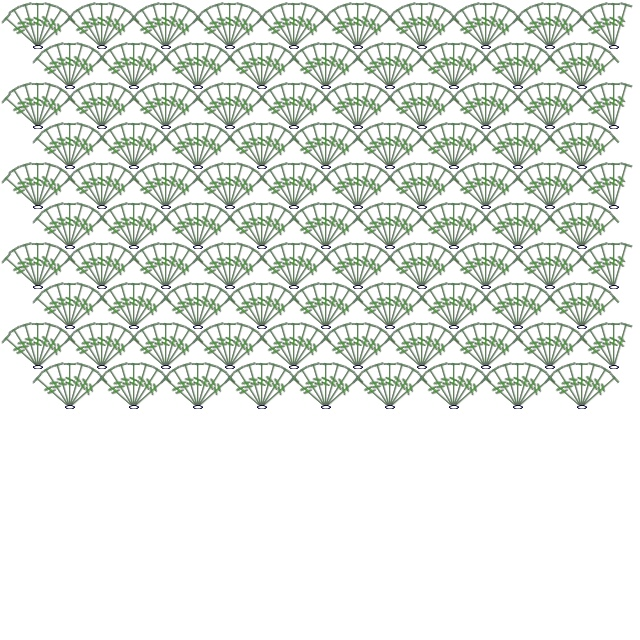chain: (32, 43, 44, 51), (96, 43, 108, 51), (160, 43, 172, 51), (224, 43, 236, 51), (288, 43, 300, 51), (352, 43, 364, 51), (416, 43, 428, 51), (480, 43, 492, 51), (544, 43, 556, 51), (608, 43, 620, 51), (64, 83, 76, 91), (128, 83, 140, 91), (192, 83, 204, 91), (256, 83, 268, 91), (320, 83, 332, 91), (384, 83, 396, 91), (448, 83, 460, 91), (512, 83, 524, 91), (576, 83, 588, 91), (32, 123, 44, 131), (96, 123, 108, 131), (160, 123, 172, 131), (224, 123, 236, 131), (288, 123, 300, 131), (352, 123, 364, 131), (416, 123, 428, 131), (480, 123, 492, 131), (544, 123, 556, 131), (608, 123, 620, 131), (64, 163, 76, 171), (128, 163, 140, 171), (192, 163, 204, 171), (256, 163, 268, 171), (320, 163, 332, 171), (384, 163, 396, 171), (448, 163, 460, 171), (512, 163, 524, 171), (576, 163, 588, 171), (32, 203, 44, 211), (96, 203, 108, 211), (160, 203, 172, 211), (224, 203, 236, 211), (288, 203, 300, 211), (352, 203, 364, 211), (416, 203, 428, 211), (480, 203, 492, 211), (544, 203, 556, 211), (608, 203, 620, 211), (64, 243, 76, 251), (128, 243, 140, 251), (192, 243, 204, 251), (256, 243, 268, 251), (320, 243, 332, 251), (384, 243, 396, 251), (448, 243, 460, 251), (512, 243, 524, 251), (576, 243, 588, 251), (32, 283, 44, 291), (96, 283, 108, 291), (160, 283, 172, 291), (224, 283, 236, 291), (288, 283, 300, 291), (352, 283, 364, 291), (416, 283, 428, 291), (480, 283, 492, 291), (544, 283, 556, 291), (608, 283, 620, 291), (64, 323, 76, 331), (128, 323, 140, 331), (192, 323, 204, 331), (256, 323, 268, 331), (320, 323, 332, 331), (384, 323, 396, 331), (448, 323, 460, 331), (512, 323, 524, 331), (576, 323, 588, 331), (32, 363, 44, 371), (96, 363, 108, 371), (160, 363, 172, 371), (224, 363, 236, 371), (288, 363, 300, 371), (352, 363, 364, 371), (416, 363, 428, 371), (480, 363, 492, 371), (544, 363, 556, 371), (608, 363, 620, 371), (64, 403, 76, 411), (128, 403, 140, 411), (192, 403, 204, 411), (256, 403, 268, 411), (320, 403, 332, 411), (384, 403, 396, 411), (448, 403, 460, 411), (512, 403, 524, 411), (576, 403, 588, 411)
fan: (33, 12, 77, 53), (63, 12, 107, 53), (97, 12, 141, 53), (127, 12, 171, 53), (161, 12, 205, 53), (191, 12, 235, 53), (225, 12, 269, 53), (255, 12, 299, 53), (289, 12, 333, 53), (319, 12, 363, 53), (353, 12, 397, 53), (383, 12, 427, 53), (417, 12, 461, 53), (447, 12, 491, 53), (481, 12, 525, 53), (511, 12, 555, 53), (545, 12, 589, 53), (575, 12, 619, 53), (31, 52, 75, 93), (65, 52, 109, 93), (95, 52, 139, 93), (129, 52, 173, 93), (159, 52, 203, 93), (193, 52, 237, 93), (223, 52, 267, 93), (257, 52, 301, 93), (287, 52, 331, 93), (321, 52, 365, 93), (351, 52, 395, 93), (385, 52, 429, 93), (415, 52, 459, 93), (449, 52, 493, 93), (479, 52, 523, 93), (513, 52, 557, 93), (543, 52, 587, 93), (577, 52, 621, 93), (33, 92, 77, 133), (63, 92, 107, 133), (97, 92, 141, 133), (127, 92, 171, 133), (161, 92, 205, 133), (191, 92, 235, 133), (225, 92, 269, 133), (255, 92, 299, 133), (289, 92, 333, 133), (319, 92, 363, 133), (353, 92, 397, 133), (383, 92, 427, 133), (417, 92, 461, 133), (447, 92, 491, 133), (481, 92, 525, 133), (511, 92, 555, 133), (545, 92, 589, 133), (575, 92, 619, 133), (31, 132, 75, 173), (65, 132, 109, 173), (95, 132, 139, 173), (129, 132, 173, 173), (159, 132, 203, 173), (193, 132, 237, 173), (223, 132, 267, 173), (257, 132, 301, 173), (287, 132, 331, 173), (321, 132, 365, 173), (351, 132, 395, 173), (385, 132, 429, 173), (415, 132, 459, 173), (449, 132, 493, 173), (479, 132, 523, 173), (513, 132, 557, 173), (543, 132, 587, 173), (577, 132, 621, 173), (33, 172, 77, 213), (63, 172, 107, 213), (97, 172, 141, 213), (127, 172, 171, 213), (161, 172, 205, 213), (191, 172, 235, 213), (225, 172, 269, 213), (255, 172, 299, 213), (289, 172, 333, 213), (319, 172, 363, 213), (353, 172, 397, 213), (383, 172, 427, 213), (417, 172, 461, 213), (447, 172, 491, 213), (481, 172, 525, 213), (511, 172, 555, 213), (545, 172, 589, 213), (575, 172, 619, 213), (31, 212, 75, 253), (65, 212, 109, 253), (95, 212, 139, 253), (129, 212, 173, 253), (159, 212, 203, 253), (193, 212, 237, 253), (223, 212, 267, 253), (257, 212, 301, 253), (287, 212, 331, 253), (321, 212, 365, 253), (351, 212, 395, 253), (385, 212, 429, 253), (415, 212, 459, 253), (449, 212, 493, 253), (479, 212, 523, 253), (513, 212, 557, 253), (543, 212, 587, 253), (577, 212, 621, 253), (33, 252, 77, 293), (63, 252, 107, 293), (97, 252, 141, 293), (127, 252, 171, 293), (161, 252, 205, 293), (191, 252, 235, 293), (225, 252, 269, 293), (255, 252, 299, 293), (289, 252, 333, 293), (319, 252, 363, 293), (353, 252, 397, 293), (383, 252, 427, 293), (417, 252, 461, 293), (447, 252, 491, 293), (481, 252, 525, 293), (511, 252, 555, 293), (545, 252, 589, 293), (575, 252, 619, 293), (31, 292, 75, 333), (65, 292, 109, 333), (95, 292, 139, 333), (129, 292, 173, 333), (159, 292, 203, 333), (193, 292, 237, 333), (223, 292, 267, 333), (257, 292, 301, 333), (287, 292, 331, 333), (321, 292, 365, 333), (351, 292, 395, 333), (385, 292, 429, 333), (415, 292, 459, 333), (449, 292, 493, 333), (479, 292, 523, 333), (513, 292, 557, 333), (543, 292, 587, 333), (577, 292, 621, 333), (33, 332, 77, 373), (63, 332, 107, 373), (97, 332, 141, 373), (127, 332, 171, 373), (161, 332, 205, 373), (191, 332, 235, 373), (225, 332, 269, 373), (255, 332, 299, 373), (289, 332, 333, 373), (319, 332, 363, 373), (353, 332, 397, 373), (383, 332, 427, 373), (417, 332, 461, 373), (447, 332, 491, 373), (481, 332, 525, 373), (511, 332, 555, 373), (545, 332, 589, 373), (575, 332, 619, 373), (31, 372, 75, 413), (65, 372, 109, 413), (95, 372, 139, 413), (129, 372, 173, 413), (159, 372, 203, 413), (193, 372, 237, 413), (223, 372, 267, 413), (257, 372, 301, 413), (287, 372, 331, 413), (321, 372, 365, 413), (351, 372, 395, 413), (385, 372, 429, 413), (415, 372, 459, 413), (449, 372, 493, 413), (479, 372, 523, 413), (513, 372, 557, 413), (543, 372, 587, 413), (577, 372, 621, 413), (0, 12, 43, 53), (0, 92, 43, 133), (0, 172, 43, 213), (0, 252, 43, 293), (0, 332, 43, 373), (8, 5, 44, 51), (32, 5, 68, 51), (72, 5, 108, 51), (96, 5, 132, 51), (136, 5, 172, 51), (160, 5, 196, 51), (200, 5, 236, 51), (224, 5, 260, 51), (264, 5, 300, 51), (288, 5, 324, 51), (328, 5, 364, 51), (352, 5, 388, 51), (392, 5, 428, 51), (416, 5, 452, 51), (456, 5, 492, 51), (480, 5, 516, 51), (520, 5, 556, 51), (544, 5, 580, 51), (584, 5, 620, 51), (40, 45, 76, 91), (64, 45, 100, 91), (104, 45, 140, 91), (128, 45, 164, 91), (168, 45, 204, 91), (192, 45, 228, 91), (232, 45, 268, 91), (256, 45, 292, 91), (296, 45, 332, 91), (320, 45, 356, 91), (360, 45, 396, 91), (384, 45, 420, 91), (424, 45, 460, 91), (448, 45, 484, 91), (488, 45, 524, 91), (512, 45, 548, 91), (552, 45, 588, 91), (576, 45, 612, 91), (8, 85, 44, 131), (32, 85, 68, 131), (72, 85, 108, 131), (96, 85, 132, 131), (136, 85, 172, 131), (160, 85, 196, 131), (200, 85, 236, 131), (224, 85, 260, 131), (264, 85, 300, 131), (288, 85, 324, 131), (328, 85, 364, 131), (352, 85, 388, 131), (392, 85, 428, 131), (416, 85, 452, 131), (456, 85, 492, 131), (480, 85, 516, 131), (520, 85, 556, 131), (544, 85, 580, 131), (584, 85, 620, 131), (40, 125, 76, 171), (64, 125, 100, 171), (104, 125, 140, 171), (128, 125, 164, 171), (168, 125, 204, 171), (192, 125, 228, 171), (232, 125, 268, 171), (256, 125, 292, 171), (296, 125, 332, 171), (320, 125, 356, 171), (360, 125, 396, 171), (384, 125, 420, 171), (424, 125, 460, 171), (448, 125, 484, 171), (488, 125, 524, 171), (512, 125, 548, 171), (552, 125, 588, 171), (576, 125, 612, 171), (8, 165, 44, 211), (32, 165, 68, 211), (72, 165, 108, 211), (96, 165, 132, 211), (136, 165, 172, 211), (160, 165, 196, 211), (200, 165, 236, 211), (224, 165, 260, 211), (264, 165, 300, 211), (288, 165, 324, 211), (328, 165, 364, 211), (352, 165, 388, 211), (392, 165, 428, 211), (416, 165, 452, 211), (456, 165, 492, 211), (480, 165, 516, 211), (520, 165, 556, 211), (544, 165, 580, 211), (584, 165, 620, 211), (40, 205, 76, 251), (64, 205, 100, 251), (104, 205, 140, 251), (128, 205, 164, 251), (168, 205, 204, 251), (192, 205, 228, 251), (232, 205, 268, 251), (256, 205, 292, 251), (296, 205, 332, 251), (320, 205, 356, 251), (360, 205, 396, 251), (384, 205, 420, 251), (424, 205, 460, 251), (448, 205, 484, 251), (488, 205, 524, 251), (512, 205, 548, 251), (552, 205, 588, 251), (576, 205, 612, 251), (8, 245, 44, 291), (32, 245, 68, 291), (72, 245, 108, 291), (96, 245, 132, 291), (136, 245, 172, 291), (160, 245, 196, 291), (200, 245, 236, 291), (224, 245, 260, 291), (264, 245, 300, 291), (288, 245, 324, 291), (328, 245, 364, 291), (352, 245, 388, 291), (392, 245, 428, 291), (416, 245, 452, 291), (456, 245, 492, 291), (480, 245, 516, 291), (520, 245, 556, 291), (544, 245, 580, 291), (584, 245, 620, 291), (40, 285, 76, 331), (64, 285, 100, 331), (104, 285, 140, 331), (128, 285, 164, 331), (168, 285, 204, 331), (192, 285, 228, 331), (232, 285, 268, 331), (256, 285, 292, 331), (296, 285, 332, 331), (320, 285, 356, 331), (360, 285, 396, 331), (384, 285, 420, 331), (424, 285, 460, 331), (448, 285, 484, 331), (488, 285, 524, 331), (512, 285, 548, 331), (552, 285, 588, 331), (576, 285, 612, 331), (8, 325, 44, 371), (32, 325, 68, 371), (72, 325, 108, 371), (96, 325, 132, 371), (136, 325, 172, 371), (160, 325, 196, 371), (200, 325, 236, 371), (224, 325, 260, 371), (264, 325, 300, 371), (288, 325, 324, 371), (328, 325, 364, 371), (352, 325, 388, 371), (392, 325, 428, 371), (416, 325, 452, 371), (456, 325, 492, 371), (480, 325, 516, 371), (520, 325, 556, 371), (544, 325, 580, 371), (584, 325, 620, 371), (40, 365, 76, 411), (64, 365, 100, 411), (104, 365, 140, 411), (128, 365, 164, 411), (168, 365, 204, 411), (192, 365, 228, 411), (232, 365, 268, 411), (256, 365, 292, 411), (296, 365, 332, 411), (320, 365, 356, 411), (360, 365, 396, 411), (384, 365, 420, 411), (424, 365, 460, 411), (448, 365, 484, 411), (488, 365, 524, 411), (512, 365, 548, 411), (552, 365, 588, 411), (576, 365, 612, 411), (18, 2, 45, 49), (31, 2, 58, 49), (82, 2, 109, 49), (95, 2, 122, 49), (146, 2, 173, 49), (159, 2, 186, 49), (210, 2, 237, 49), (223, 2, 250, 49), (274, 2, 301, 49), (287, 2, 314, 49), (338, 2, 365, 49), (351, 2, 378, 49), (402, 2, 429, 49), (415, 2, 442, 49), (466, 2, 493, 49), (479, 2, 506, 49), (530, 2, 557, 49), (543, 2, 570, 49), (594, 2, 621, 49), (607, 2, 634, 49), (50, 42, 77, 89), (63, 42, 90, 89), (114, 42, 141, 89), (127, 42, 154, 89), (178, 42, 205, 89), (191, 42, 218, 89), (242, 42, 269, 89), (255, 42, 282, 89), (306, 42, 333, 89), (319, 42, 346, 89), (370, 42, 397, 89), (383, 42, 410, 89), (434, 42, 461, 89), (447, 42, 474, 89), (498, 42, 525, 89), (511, 42, 538, 89), (562, 42, 589, 89), (575, 42, 602, 89), (18, 82, 45, 129), (31, 82, 58, 129), (82, 82, 109, 129), (95, 82, 122, 129), (146, 82, 173, 129), (159, 82, 186, 129), (210, 82, 237, 129), (223, 82, 250, 129), (274, 82, 301, 129), (287, 82, 314, 129), (338, 82, 365, 129), (351, 82, 378, 129), (402, 82, 429, 129), (415, 82, 442, 129), (466, 82, 493, 129), (479, 82, 506, 129), (530, 82, 557, 129), (543, 82, 570, 129), (594, 82, 621, 129), (607, 82, 634, 129), (50, 122, 77, 169), (63, 122, 90, 169), (114, 122, 141, 169), (127, 122, 154, 169), (178, 122, 205, 169), (191, 122, 218, 169), (242, 122, 269, 169), (255, 122, 282, 169), (306, 122, 333, 169), (319, 122, 346, 169), (370, 122, 397, 169), (383, 122, 410, 169), (434, 122, 461, 169), (447, 122, 474, 169), (498, 122, 525, 169), (511, 122, 538, 169), (562, 122, 589, 169), (575, 122, 602, 169), (18, 162, 45, 209), (31, 162, 58, 209), (82, 162, 109, 209), (95, 162, 122, 209), (146, 162, 173, 209), (159, 162, 186, 209), (210, 162, 237, 209), (223, 162, 250, 209), (274, 162, 301, 209), (287, 162, 314, 209), (338, 162, 365, 209), (351, 162, 378, 209), (402, 162, 429, 209), (415, 162, 442, 209), (466, 162, 493, 209), (479, 162, 506, 209), (530, 162, 557, 209), (543, 162, 570, 209), (594, 162, 621, 209), (607, 162, 634, 209), (50, 202, 77, 249), (63, 202, 90, 249), (114, 202, 141, 249), (127, 202, 154, 249), (178, 202, 205, 249), (191, 202, 218, 249), (242, 202, 269, 249), (255, 202, 282, 249), (306, 202, 333, 249), (319, 202, 346, 249), (370, 202, 397, 249), (383, 202, 410, 249), (434, 202, 461, 249), (447, 202, 474, 249), (498, 202, 525, 249), (511, 202, 538, 249), (562, 202, 589, 249), (575, 202, 602, 249), (18, 242, 45, 289), (31, 242, 58, 289), (82, 242, 109, 289), (95, 242, 122, 289), (146, 242, 173, 289), (159, 242, 186, 289), (210, 242, 237, 289), (223, 242, 250, 289), (274, 242, 301, 289), (287, 242, 314, 289), (338, 242, 365, 289), (351, 242, 378, 289), (402, 242, 429, 289), (415, 242, 442, 289), (466, 242, 493, 289), (479, 242, 506, 289), (530, 242, 557, 289), (543, 242, 570, 289), (594, 242, 621, 289), (607, 242, 634, 289), (50, 282, 77, 329), (63, 282, 90, 329), (114, 282, 141, 329), (127, 282, 154, 329), (178, 282, 205, 329), (191, 282, 218, 329), (242, 282, 269, 329), (255, 282, 282, 329), (306, 282, 333, 329), (319, 282, 346, 329), (370, 282, 397, 329), (383, 282, 410, 329), (434, 282, 461, 329), (447, 282, 474, 329), (498, 282, 525, 329), (511, 282, 538, 329), (562, 282, 589, 329), (575, 282, 602, 329), (18, 322, 45, 369), (31, 322, 58, 369), (82, 322, 109, 369), (95, 322, 122, 369), (146, 322, 173, 369), (159, 322, 186, 369), (210, 322, 237, 369), (223, 322, 250, 369), (274, 322, 301, 369), (287, 322, 314, 369), (338, 322, 365, 369), (351, 322, 378, 369), (402, 322, 429, 369), (415, 322, 442, 369), (466, 322, 493, 369), (479, 322, 506, 369), (530, 322, 557, 369), (543, 322, 570, 369), (594, 322, 621, 369), (607, 322, 634, 369), (50, 362, 77, 409), (63, 362, 90, 409), (114, 362, 141, 409), (127, 362, 154, 409), (178, 362, 205, 409), (191, 362, 218, 409), (242, 362, 269, 409), (255, 362, 282, 409), (306, 362, 333, 409), (319, 362, 346, 409), (370, 362, 397, 409), (383, 362, 410, 409), (434, 362, 461, 409), (447, 362, 474, 409), (498, 362, 525, 409), (511, 362, 538, 409), (562, 362, 589, 409), (575, 362, 602, 409), (30, 2, 46, 47), (94, 2, 110, 47), (158, 2, 174, 47), (222, 2, 238, 47), (286, 2, 302, 47), (350, 2, 366, 47), (414, 2, 430, 47), (478, 2, 494, 47), (542, 2, 558, 47), (606, 2, 622, 47), (62, 42, 78, 87), (126, 42, 142, 87), (190, 42, 206, 87), (254, 42, 270, 87), (318, 42, 334, 87), (382, 42, 398, 87), (446, 42, 462, 87), (510, 42, 526, 87), (574, 42, 590, 87), (30, 82, 46, 127), (94, 82, 110, 127), (158, 82, 174, 127), (222, 82, 238, 127), (286, 82, 302, 127), (350, 82, 366, 127), (414, 82, 430, 127), (478, 82, 494, 127), (542, 82, 558, 127), (606, 82, 622, 127), (62, 122, 78, 167), (126, 122, 142, 167), (190, 122, 206, 167), (254, 122, 270, 167), (318, 122, 334, 167), (382, 122, 398, 167), (446, 122, 462, 167), (510, 122, 526, 167), (574, 122, 590, 167), (30, 162, 46, 207), (94, 162, 110, 207), (158, 162, 174, 207), (222, 162, 238, 207), (286, 162, 302, 207), (350, 162, 366, 207), (414, 162, 430, 207), (478, 162, 494, 207), (542, 162, 558, 207), (606, 162, 622, 207), (62, 202, 78, 247), (126, 202, 142, 247), (190, 202, 206, 247), (254, 202, 270, 247), (318, 202, 334, 247), (382, 202, 398, 247), (446, 202, 462, 247), (510, 202, 526, 247), (574, 202, 590, 247), (30, 242, 46, 287), (94, 242, 110, 287), (158, 242, 174, 287), (222, 242, 238, 287), (286, 242, 302, 287), (350, 242, 366, 287), (414, 242, 430, 287), (478, 242, 494, 287), (542, 242, 558, 287), (606, 242, 622, 287), (62, 282, 78, 327), (126, 282, 142, 327), (190, 282, 206, 327), (254, 282, 270, 327), (318, 282, 334, 327), (382, 282, 398, 327), (446, 282, 462, 327), (510, 282, 526, 327), (574, 282, 590, 327), (30, 322, 46, 367), (94, 322, 110, 367), (158, 322, 174, 367), (222, 322, 238, 367), (286, 322, 302, 367), (350, 322, 366, 367), (414, 322, 430, 367), (478, 322, 494, 367), (542, 322, 558, 367), (606, 322, 622, 367), (62, 362, 78, 407), (126, 362, 142, 407), (190, 362, 206, 407), (254, 362, 270, 407), (318, 362, 334, 407), (382, 362, 398, 407), (446, 362, 462, 407), (510, 362, 526, 407), (574, 362, 590, 407)
